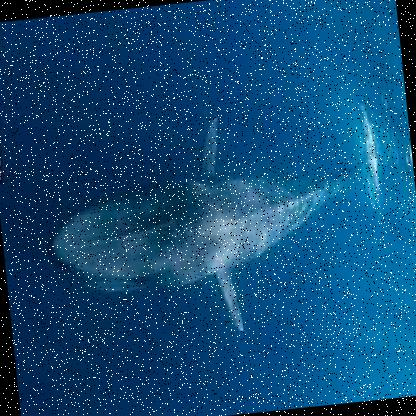blue_whale: (24, 77, 405, 386)
